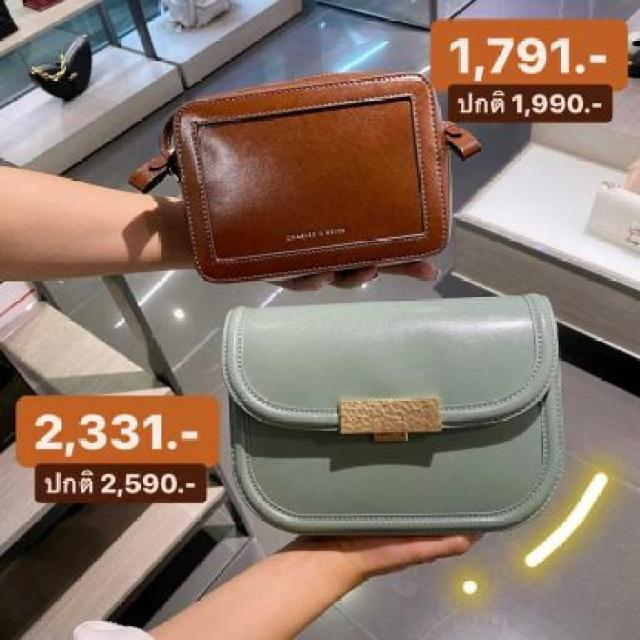Bag: (208, 283, 597, 540), (128, 67, 490, 290)
